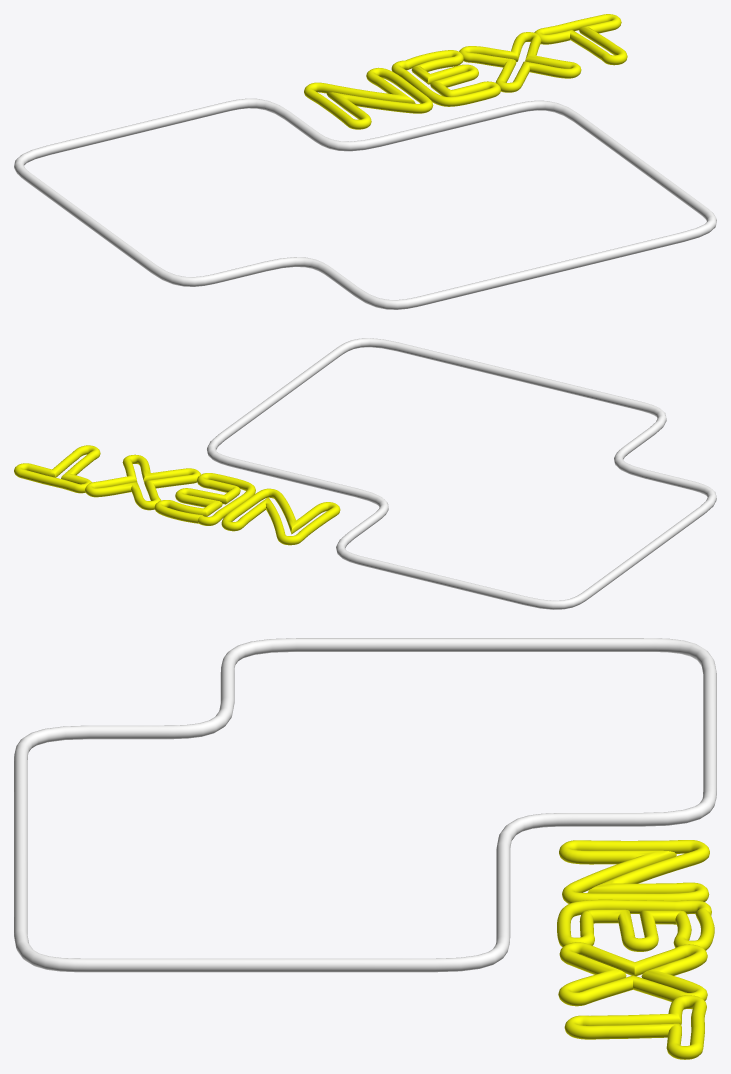
File: nextWindow.FBX
3 renders of one model, top to bottom at view 1: azimuth 30°, elevation 25°; view 2: azimuth 150°, elevation 25°; view 3: azimuth 270°, elevation 25°, orthographic. The views are drawn at different scales.
Parts seen in each view (by area): view 1: Line001, Text001; view 2: Line001, Text001; view 3: Line001, Text001.
Part boxes in pixels (x1,y1,x2,y2): Line001: (14, 98, 716, 309); Text001: (304, 14, 627, 129); Line001: (207, 338, 716, 609); Text001: (14, 445, 340, 545); Line001: (14, 638, 716, 972); Text001: (557, 840, 714, 1059).
Bounding box in the file's own units: 0.1421 × 0.102 × 0.002.
